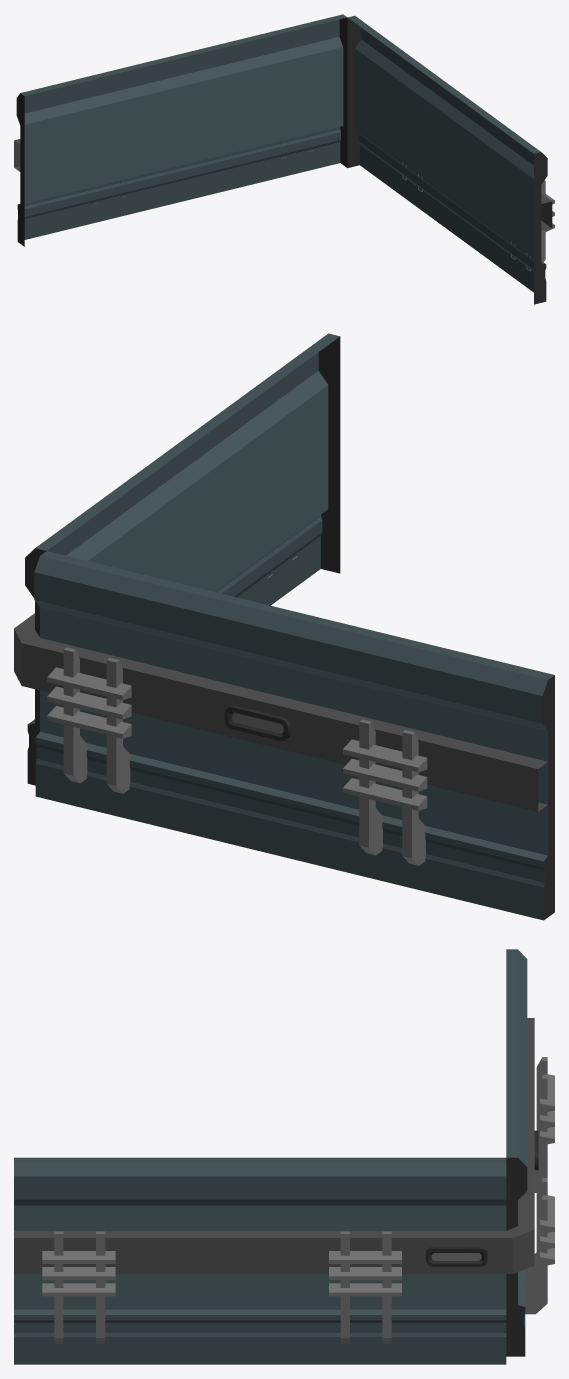
The model's file is SM_wall_front_angle_04.fbx.
3 views of the same model, one above another, from view 1: azimuth 30°, elevation 25°; view 2: azimuth 150°, elevation 25°; view 3: azimuth 270°, elevation 25° (orthographic). The views are drawn at different scales.
Parts seen in each view (by area): view 1: SM_wall_front_angle_04; view 2: SM_wall_front_angle_04; view 3: SM_wall_front_angle_04.
Boxes of the visible parts, x1,y1,x2,y2 form: SM_wall_front_angle_04: (14,14,554,304); SM_wall_front_angle_04: (14,333,554,920); SM_wall_front_angle_04: (14,949,554,1364).
Size of the model in its own units: 330 by 134 by 330.
2 materials, 2 textured.
